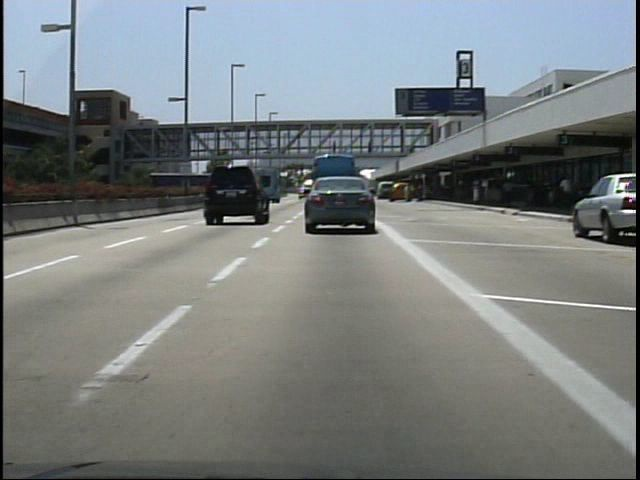person: (499, 175, 517, 212), (558, 171, 575, 208), (402, 179, 417, 206), (364, 138, 378, 160), (329, 136, 342, 156)
